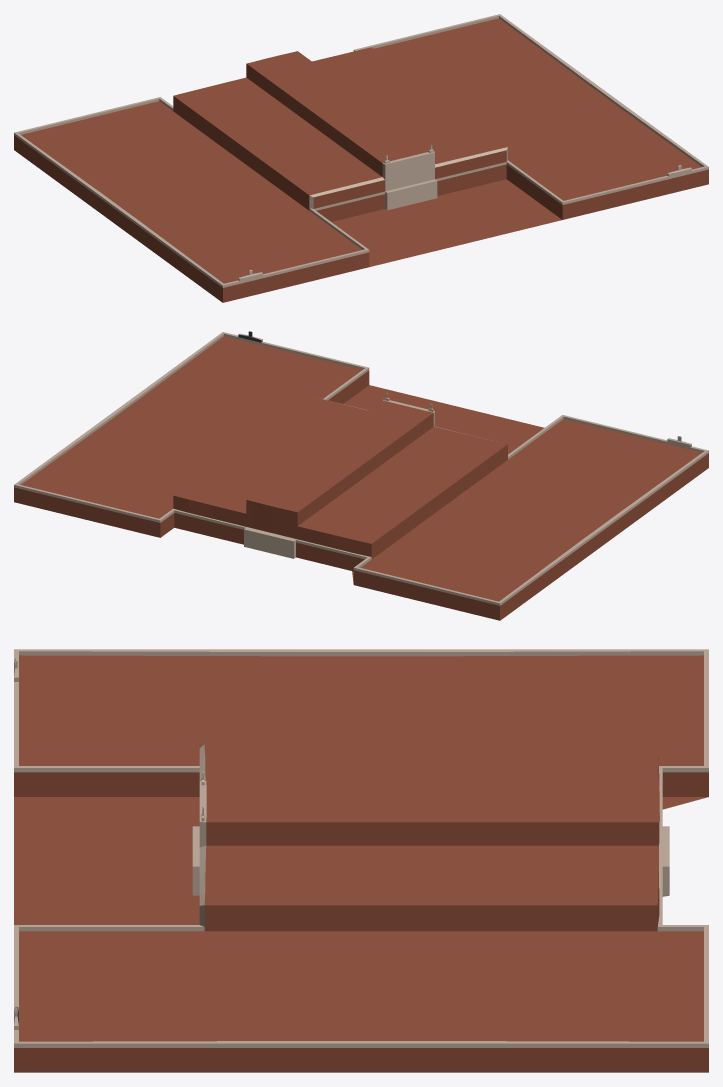
The model's file is Main_Block_Roof.fbx.
3 renders of one model, top to bottom at view 1: azimuth 30°, elevation 25°; view 2: azimuth 150°, elevation 25°; view 3: azimuth 270°, elevation 25°, orthographic. The views are drawn at different scales.
Parts seen in each view (by area): view 1: Main_Roof; view 2: Main_Roof; view 3: Main_Roof.
Boxes of the visible parts, x1=… form: Main_Roof: x1=14, y1=14, x2=708, y2=302; Main_Roof: x1=14, y1=331, x2=708, y2=620; Main_Roof: x1=14, y1=649, x2=708, y2=1072.
Size of the model in its own units: 4025 by 409 by 2995.
